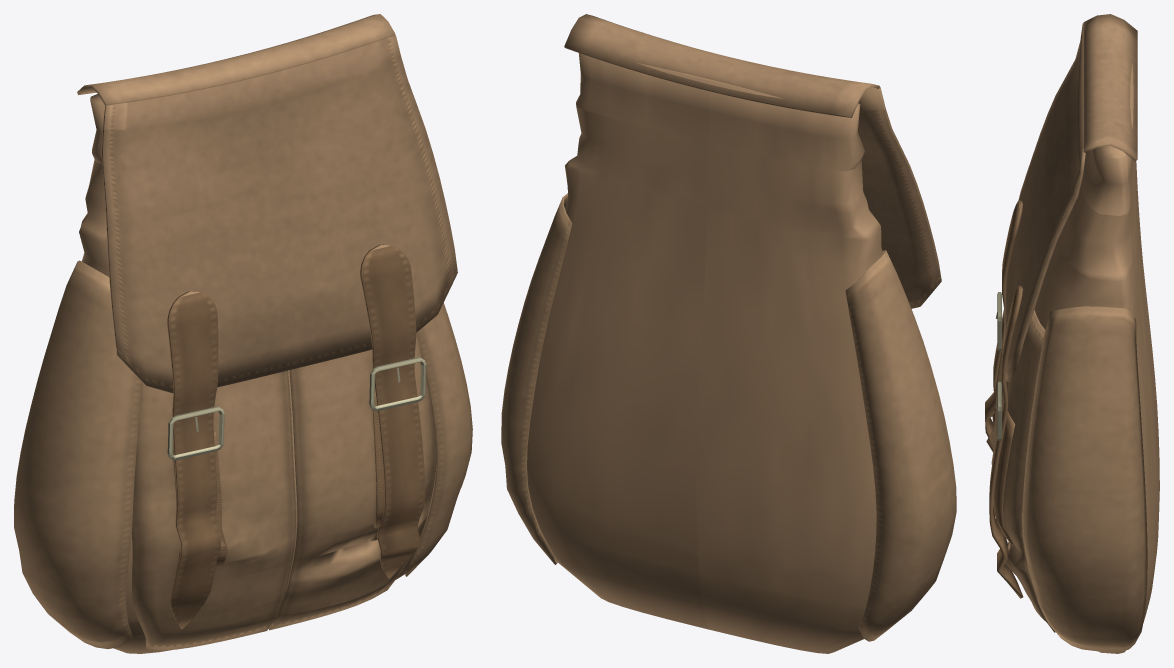
Rendered from MillooSmoothTanLeather.glb.
3 renders of one model, left to right at view 1: azimuth 30°, elevation 25°; view 2: azimuth 150°, elevation 25°; view 3: azimuth 270°, elevation 25°, orthographic. The views are drawn at different scales.
Parts seen in each view (by area): view 1: Smooth tan leather Game Mesh; view 2: Smooth tan leather Game Mesh; view 3: Smooth tan leather Game Mesh.
Part boxes in pixels (bbox=[...]): Smooth tan leather Game Mesh: bbox=[14, 14, 472, 653]; Smooth tan leather Game Mesh: bbox=[501, 14, 956, 653]; Smooth tan leather Game Mesh: bbox=[985, 14, 1159, 653].
Bounding box in the file's own units: 0.9344 × 1.19 × 0.3613.
Materials: 1 (1 with a texture image).
